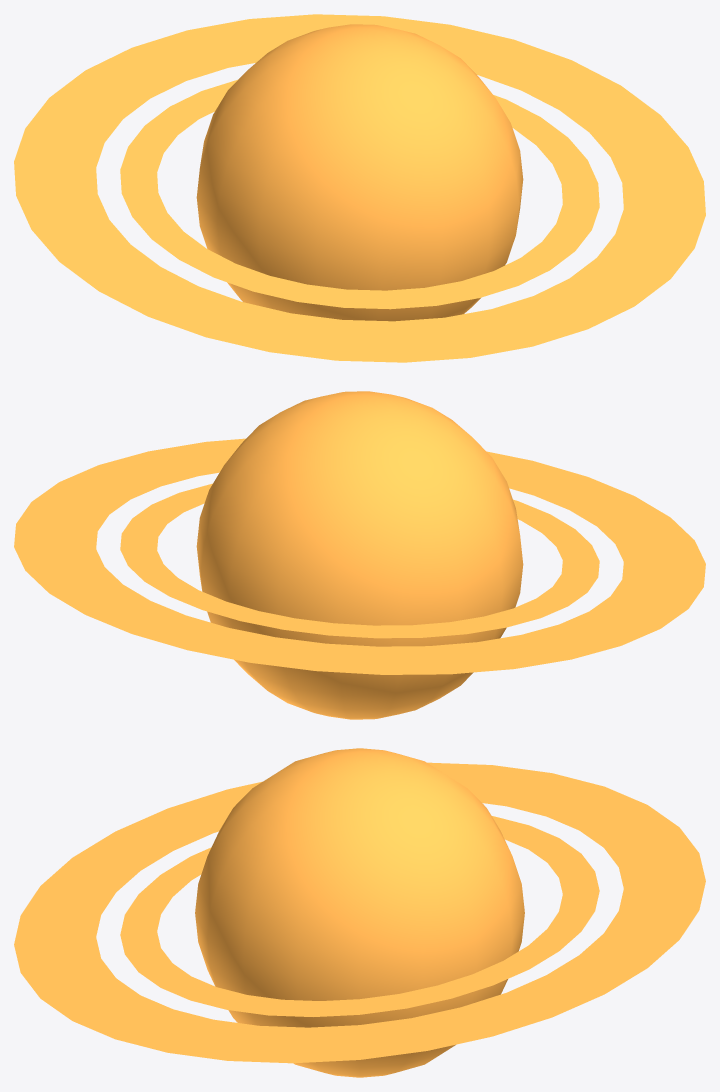
Rendered from planet.glb.
3 views of the same model, one above another, from view 1: azimuth 30°, elevation 25°; view 2: azimuth 150°, elevation 25°; view 3: azimuth 270°, elevation 25° (orthographic).
Parts seen in each view (by area): view 1: Circle, Sphere, Circle.001; view 2: Sphere, Circle, Circle.001; view 3: Sphere, Circle, Circle.001.
Part boxes in pixels (x1,y1,x2,y2): Circle: (14, 14, 705, 362); Sphere: (196, 24, 523, 321); Circle.001: (120, 79, 599, 309); Sphere: (196, 391, 523, 719); Circle: (14, 438, 705, 674); Circle.001: (120, 483, 599, 638); Sphere: (195, 748, 524, 1077); Circle: (14, 762, 705, 1063); Circle.001: (120, 816, 599, 1016).
Size of the model in its own units: 4.22 by 2 by 4.2.
